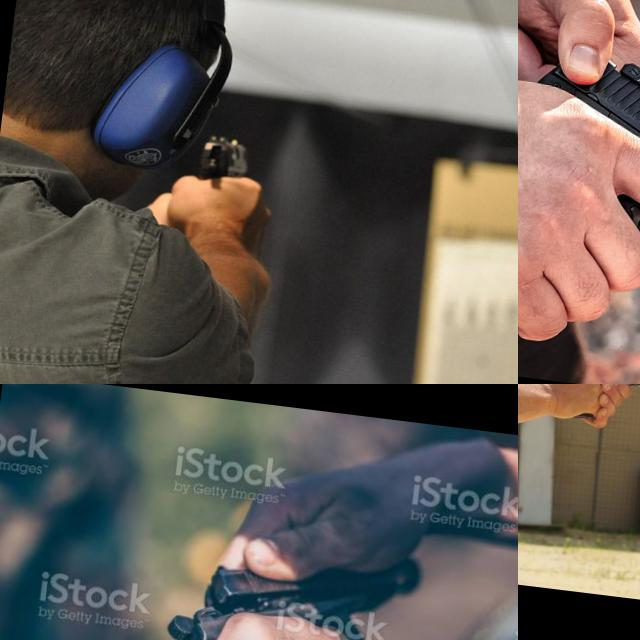handgun: (518, 30, 640, 369), (143, 523, 426, 640), (192, 130, 256, 187), (551, 384, 640, 418)
